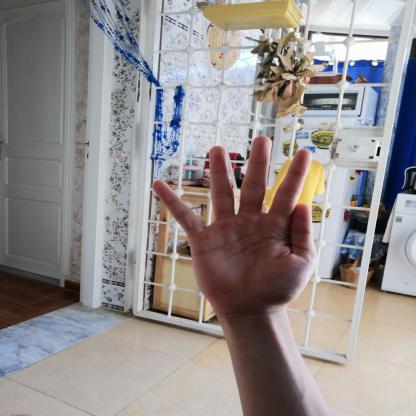SHEEN: (140, 125, 338, 323)
